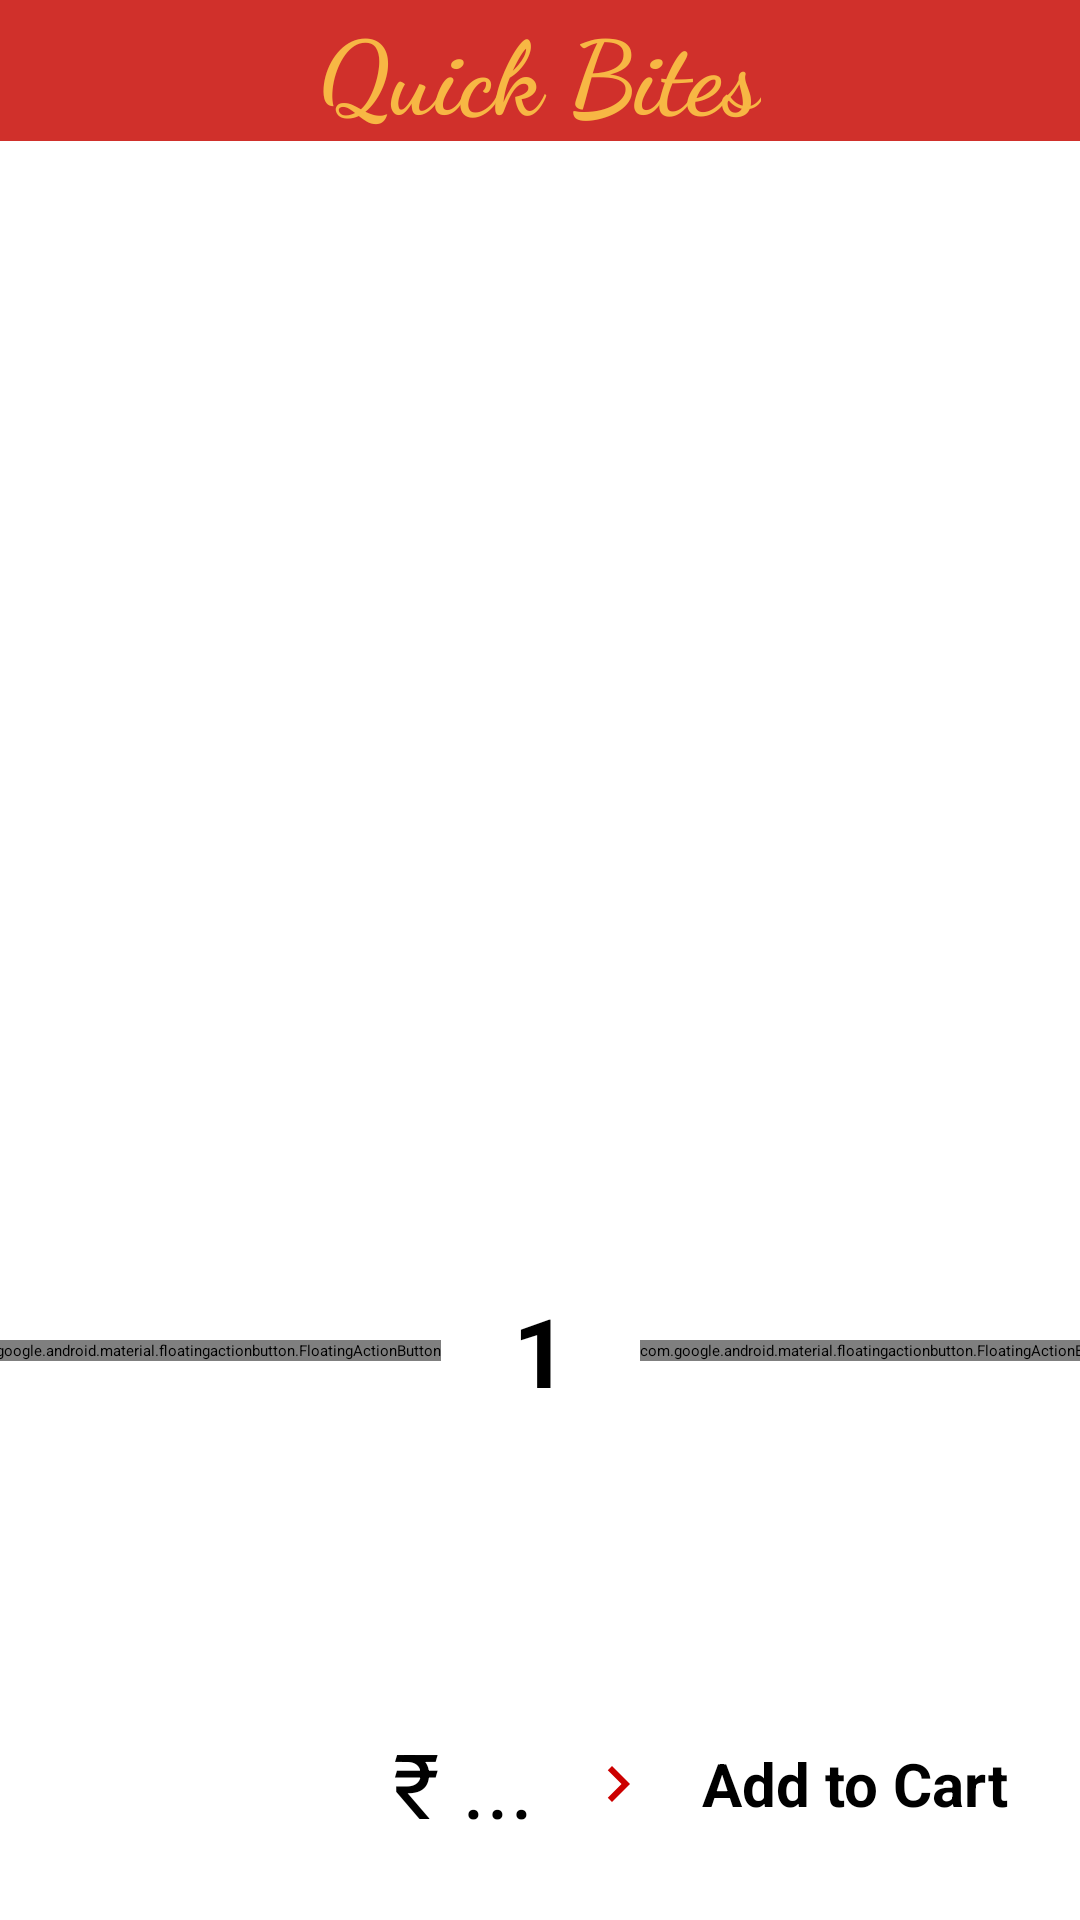

Where icons sit on this 1080px x 1920px app screen, as Rect(x1, y1, x2, y2):
arrow right: Rect(608, 1766, 630, 1802)
